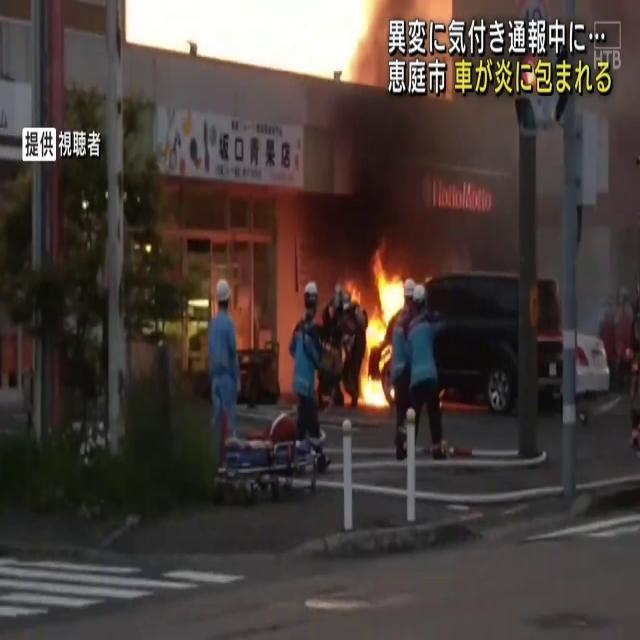Fire: (346, 254, 412, 410)
Smoke: (296, 1, 502, 270)
